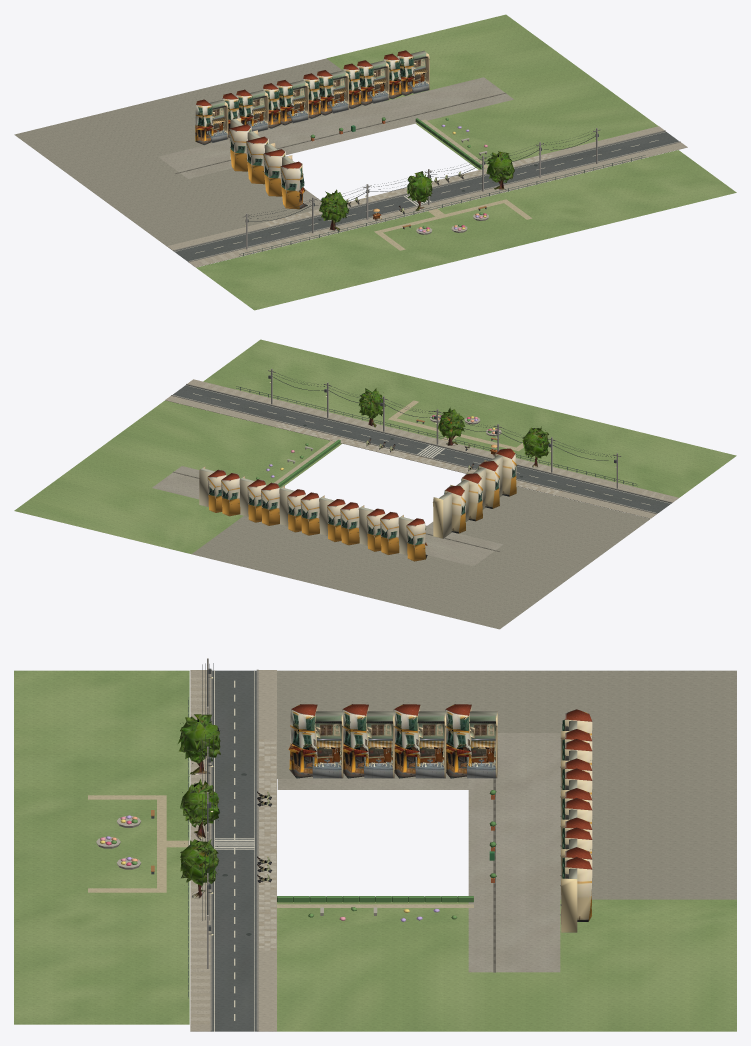
Rendered from surroundings.glb.
The picture shows the model from 3 angles, top to bottom: view 1: azimuth 30°, elevation 25°; view 2: azimuth 150°, elevation 25°; view 3: azimuth 270°, elevation 25°; orthographic projection. The views are drawn at different scales.
Parts seen in each view (by area): view 1: cafe_land, cafe_meshy, cafe_scenery; view 2: cafe_land, cafe_meshy, cafe_scenery; view 3: cafe_land, cafe_meshy, cafe_scenery.
Boxes of the visible parts, x1,y1,x2,y2 form: cafe_land: [14, 14, 736, 310]; cafe_meshy: [195, 50, 514, 231]; cafe_scenery: [239, 117, 645, 256]; cafe_land: [14, 339, 736, 629]; cafe_meshy: [199, 388, 549, 561]; cafe_scenery: [236, 368, 637, 488]; cafe_land: [14, 669, 736, 1031]; cafe_meshy: [177, 704, 592, 932]; cafe_scenery: [96, 658, 496, 998].
Size of the model in its own units: 104 by 8.53 by 88.
3 materials, 2 textured.
